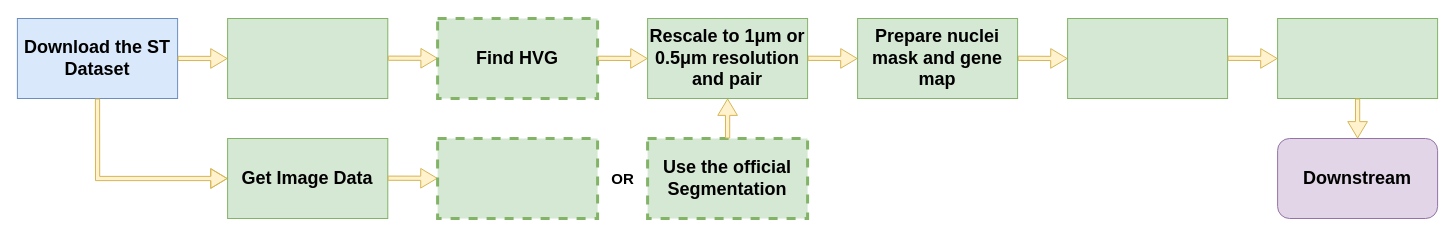
Some shapes in this 1456 by 237 pixel diagram are drawn without their labels. Each missing label, with the centre of its shape:
"Get a segmentation mask" belongs at point (1357, 58).
"Get transcripts and Filtered" belongs at point (307, 58).
"Nuclei Segmentation" belongs at point (517, 178).
"Train UCS Model and predict" belongs at point (1147, 58).
